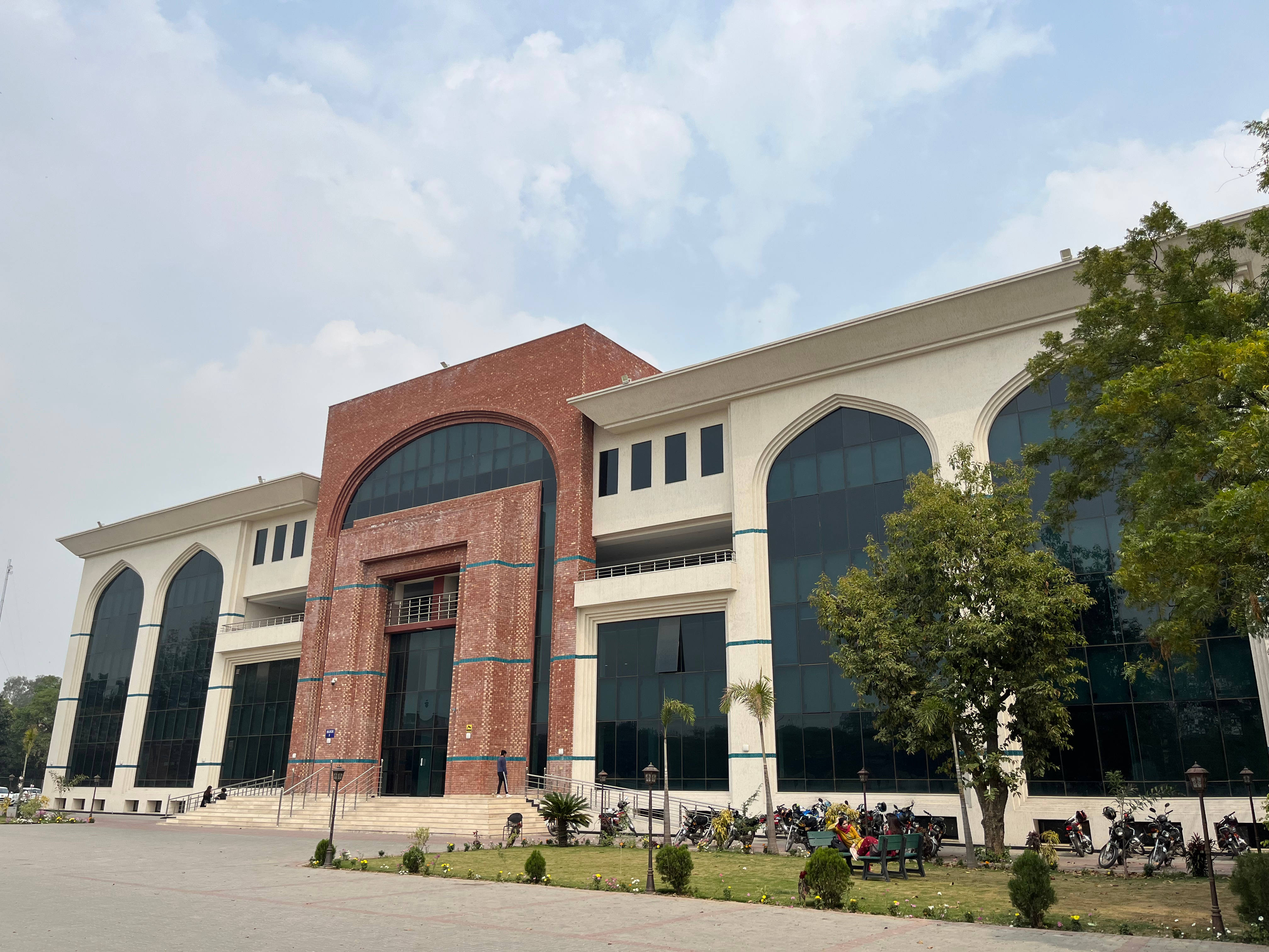Block F: (57, 209, 1269, 861)
